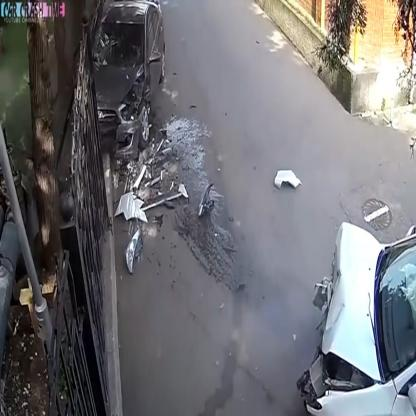accident: (299, 186, 405, 416), (80, 0, 170, 213)
